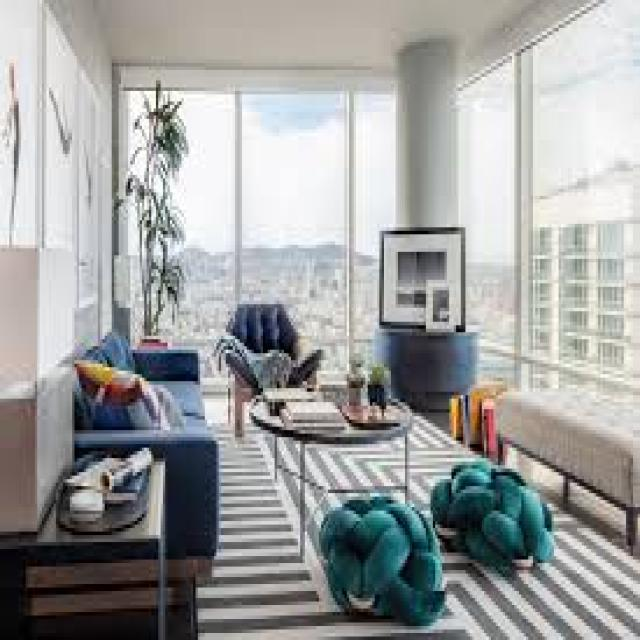Chair: (207, 286, 322, 441)
Sofa: (32, 300, 226, 578), (488, 354, 640, 536)
Table: (0, 476, 174, 638), (248, 381, 421, 521)
